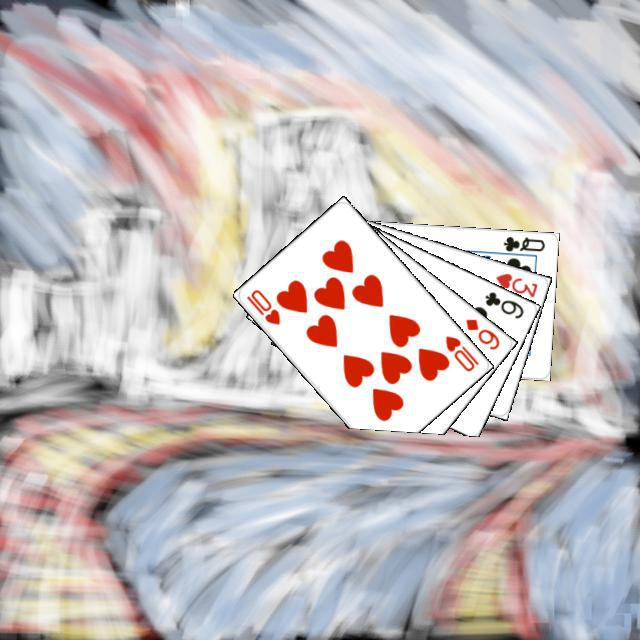10h: (440, 331, 481, 373), (241, 284, 282, 326)
3h: (491, 268, 539, 299)
6c: (480, 287, 525, 320)
6d: (461, 314, 501, 352)
Qc: (494, 232, 546, 260)
